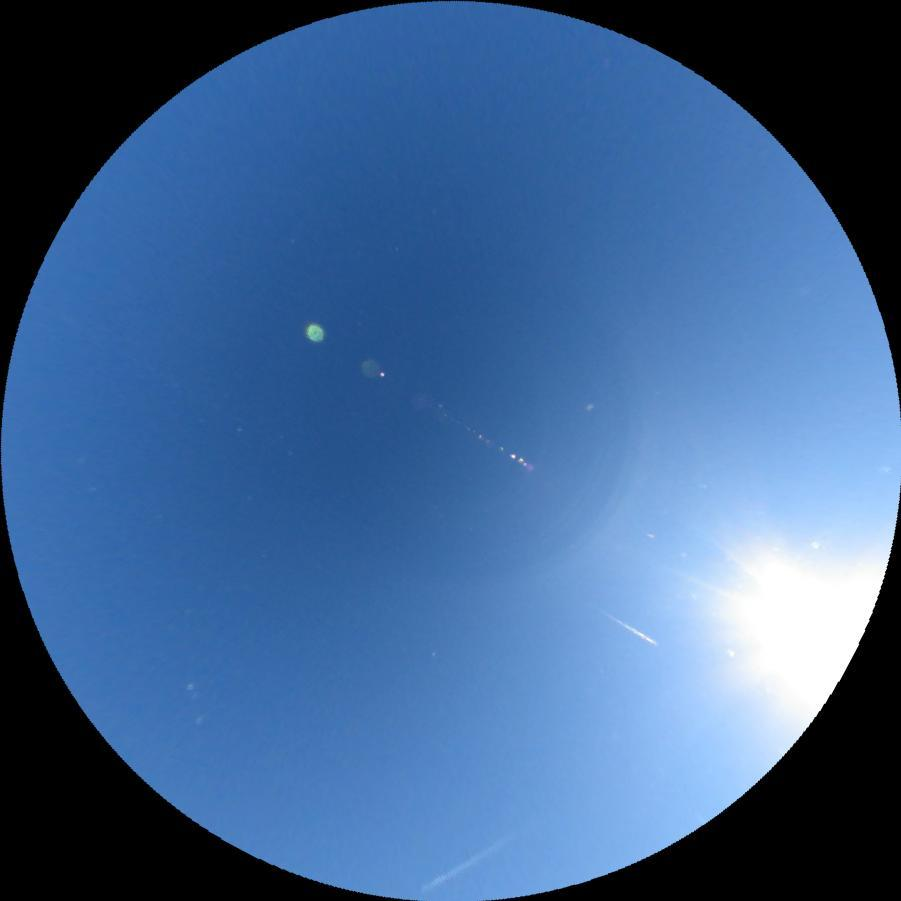contrail young: (413, 827, 521, 898), (603, 610, 660, 646)
sun: (701, 516, 892, 724)
